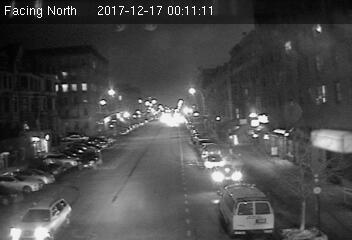car: (7, 198, 76, 240), (211, 163, 245, 186), (203, 153, 224, 167)
police: (218, 184, 276, 235)
